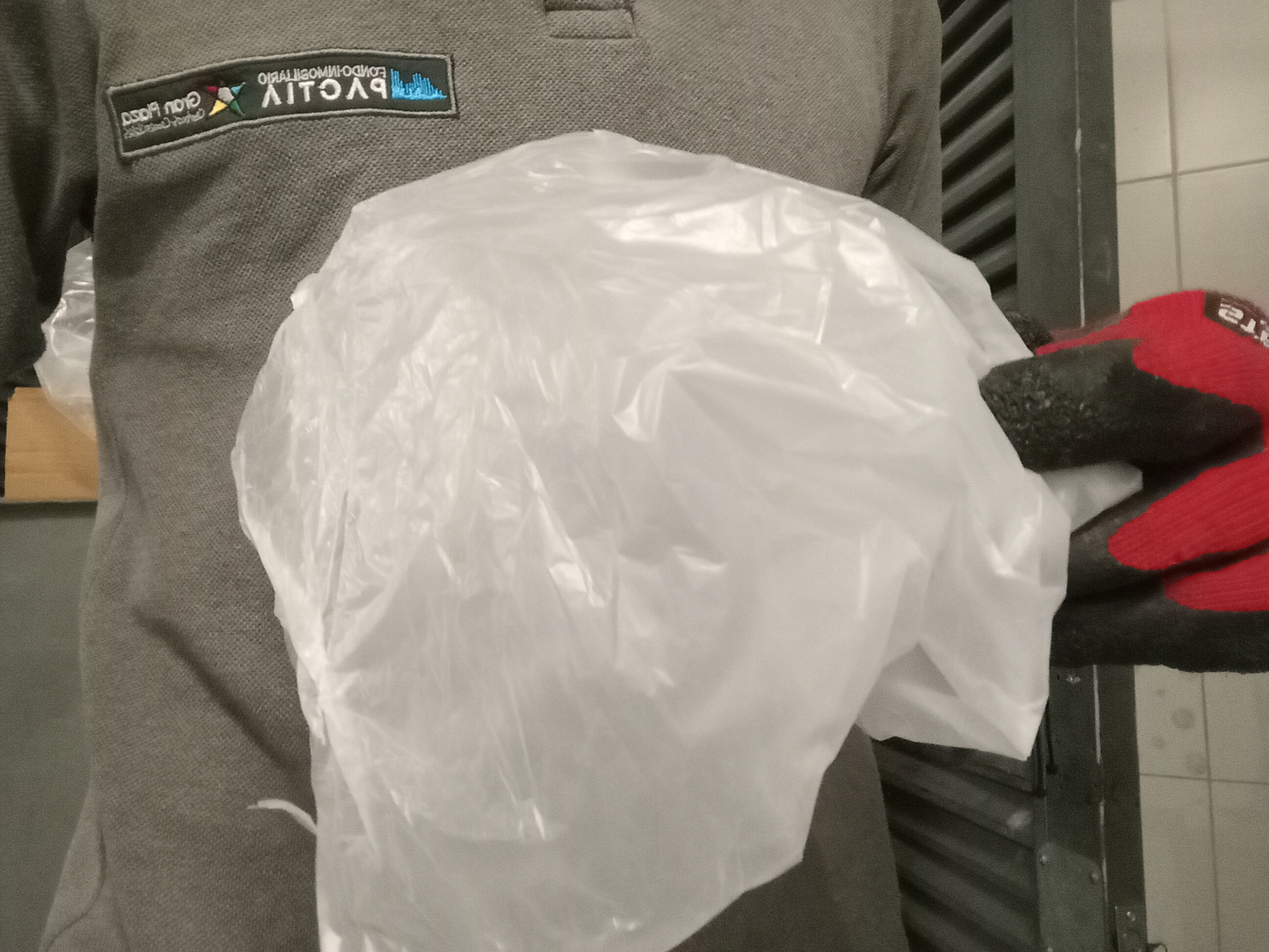Plastico: (228, 126, 1067, 952)
